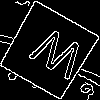W: (23, 25, 88, 90)
